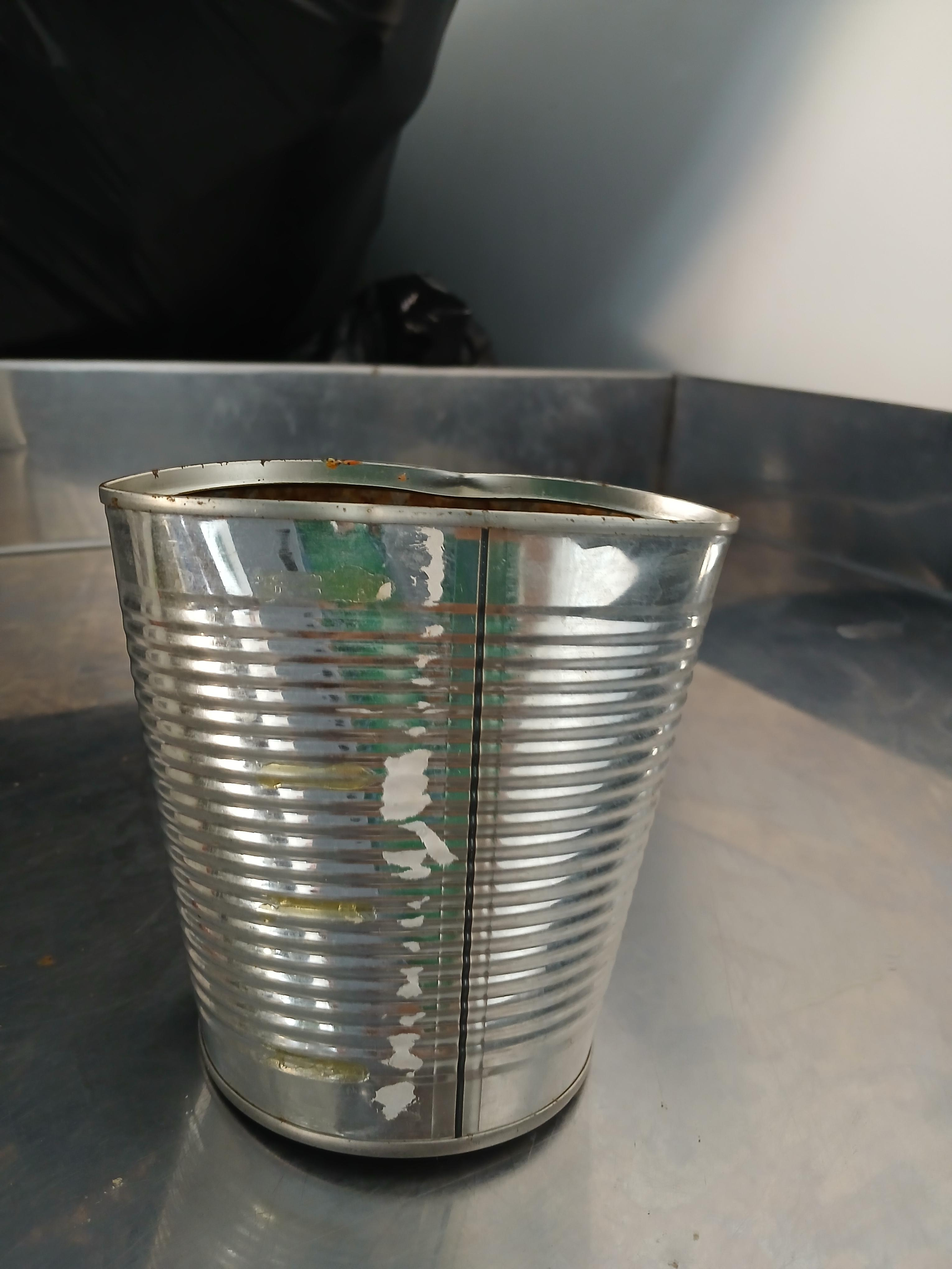Metal: (99, 460, 740, 1157)
